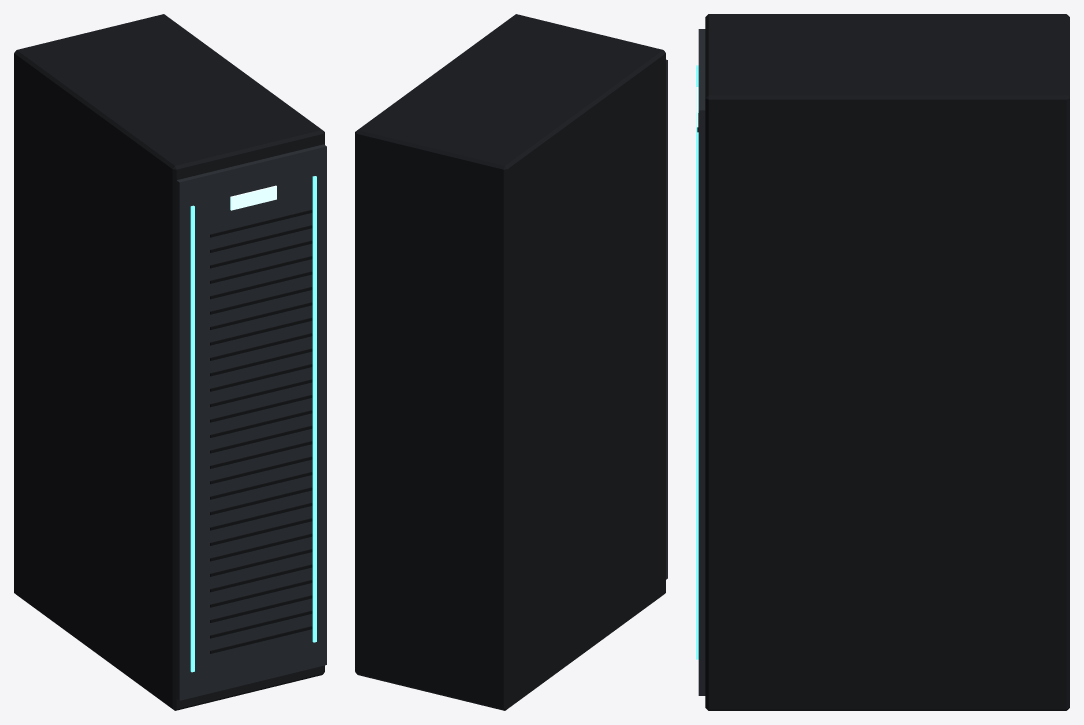
File: 13_Storage_Array_SAN_Cabinet.fbx
3 views of the same model, side by side, from view 1: azimuth 30°, elevation 25°; view 2: azimuth 150°, elevation 25°; view 3: azimuth 270°, elevation 25° (orthographic). The views are drawn at different scales.
Visible parts, largest first — view 1: 13_Storage_Array_SAN_Cabinet; view 2: 13_Storage_Array_SAN_Cabinet; view 3: 13_Storage_Array_SAN_Cabinet.
Part boxes in pixels (x1,y1,x2,y2): 13_Storage_Array_SAN_Cabinet: (14,14,326,710); 13_Storage_Array_SAN_Cabinet: (355,14,667,710); 13_Storage_Array_SAN_Cabinet: (696,14,1069,710).
Size of the model in its own units: 0.6 by 2.05 by 1.13.
